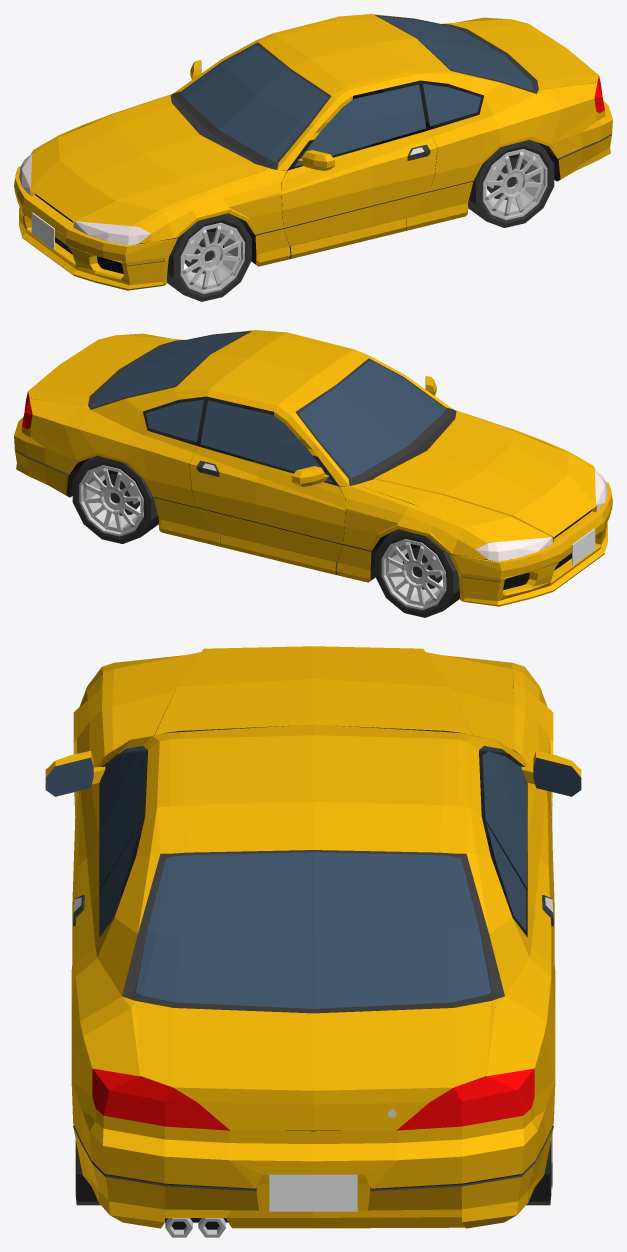
The model's file is low_poly_nissan_silvia_s15.glb.
3 renders of one model, top to bottom at view 1: azimuth 30°, elevation 25°; view 2: azimuth 150°, elevation 25°; view 3: azimuth 270°, elevation 25°, orthographic. The views are drawn at different scales.
Parts seen in each view (by area): view 1: Silvia s15; view 2: Silvia s15; view 3: Silvia s15.
Boxes of the visible parts, bbox=[...] form: Silvia s15: bbox=[14, 14, 612, 301]; Silvia s15: bbox=[14, 330, 612, 617]; Silvia s15: bbox=[45, 646, 581, 1237].
Size of the model in its own units: 2.99 by 0.8534 by 1.3.
